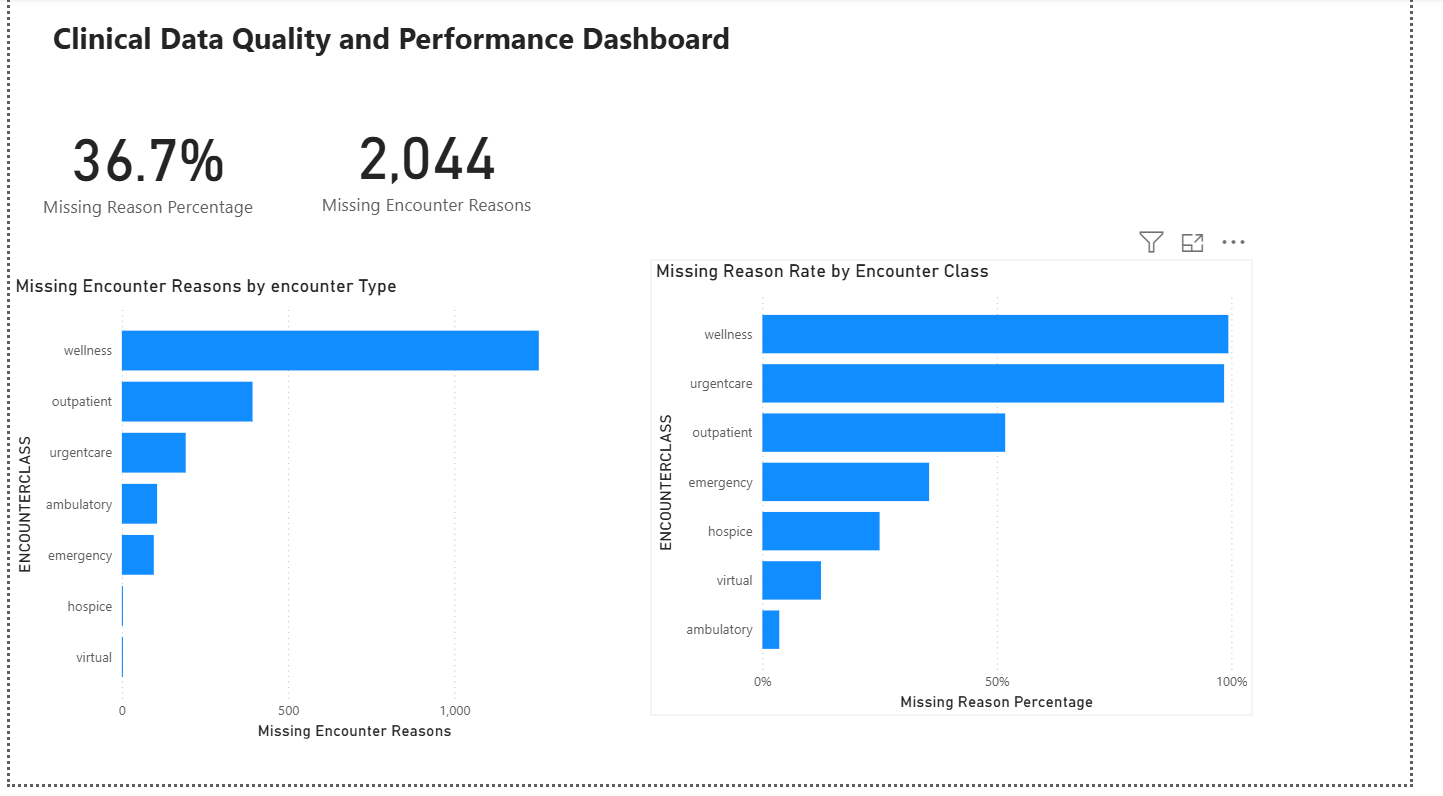

The dashboard page shown, as its layout file describes it:
{"tool":"powerbi","page":{"name":"Clinical Data Quality Dashboard","canvas":[1280,720],"ordinal":1},"visuals":[{"type":"card","fields":{"Values":["healthcare_analytics encounters.Missing Encounter Reasons"]},"box":[255.8,80.5,251.1,140.5],"z":0},{"type":"clusteredBarChart","title":"Missing Encounter Reasons by encounter Type","fields":{"Category":["healthcare_analytics encounters.ENCOUNTERCLASS"],"Y":["healthcare_analytics encounters.Missing Encounter Reasons"]},"box":[0,254.2,547.9,429.5],"z":1000},{"type":"card","fields":{"Values":["healthcare_analytics encounters.Missing Reason Percentage"]},"box":[12.6,66.3,227.4,173.7],"z":2000},{"type":"clusteredBarChart","title":"Missing Reason Rate by Encounter Class","fields":{"Category":["healthcare_analytics encounters.ENCOUNTERCLASS"],"Y":["healthcare_analytics encounters.Missing Reason Percentage"]},"box":[585.8,240,551.1,416.8],"z":3000},{"type":"textbox","box":[34.7,14.2,799,66.3],"z":4000}]}

Visuals, with their boxes in screenshot pixels (x1, y1, x2, y2), scaled from the page's 1280x720 canvas onto the 1443x796 screenshot:
card - healthcare_analytics encounters.Missing Encounter Reasons: locate(288, 89, 571, 244)
"Missing Encounter Reasons by encounter Type" clusteredBarChart: locate(0, 281, 618, 756)
card - healthcare_analytics encounters.Missing Reason Percentage: locate(14, 73, 271, 265)
"Missing Reason Rate by Encounter Class" clusteredBarChart: locate(660, 265, 1282, 726)
textbox: locate(39, 16, 940, 89)
